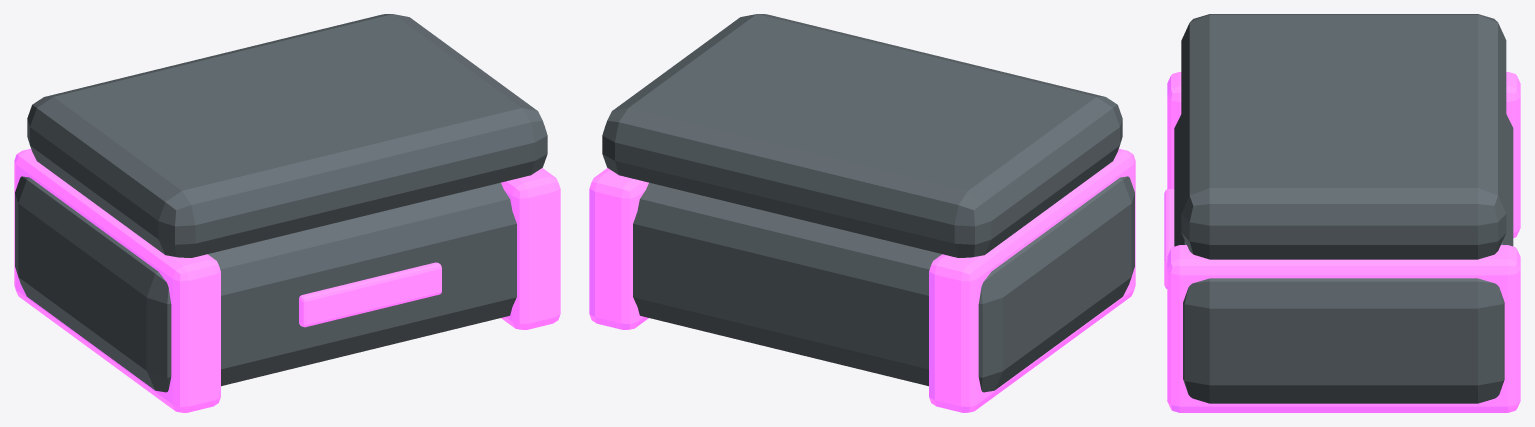
File: CargoCase_Strange.glb
The picture shows the model from 3 angles, left to right: view 1: azimuth 30°, elevation 25°; view 2: azimuth 150°, elevation 25°; view 3: azimuth 270°, elevation 25°; orthographic projection. The views are drawn at different scales.
Visible parts, largest first — view 1: CargoCase_Strange_Lid, CargoCase_Strange, CargoCase_Strange_Corner_L, CargoCase_Strange_Corner_R, CargoCase_Strange_Mark; view 2: CargoCase_Strange_Lid, CargoCase_Strange, CargoCase_Strange_Corner_L, CargoCase_Strange_Corner_R; view 3: CargoCase_Strange_Lid, CargoCase_Strange, CargoCase_Strange_Corner_R, CargoCase_Strange_Corner_L, CargoCase_Strange_Mark.
Part boxes in pixels (x1=…): CargoCase_Strange_Lid: x1=27, y1=14, x2=547, y2=257; CargoCase_Strange: x1=15, y1=176, x2=516, y2=392; CargoCase_Strange_Corner_L: x1=14, y1=148, x2=220, y2=412; CargoCase_Strange_Corner_R: x1=501, y1=168, x2=560, y2=329; CargoCase_Strange_Mark: x1=299, y1=262, x2=441, y2=327; CargoCase_Strange_Lid: x1=602, y1=14, x2=1122, y2=257; CargoCase_Strange: x1=633, y1=176, x2=1134, y2=392; CargoCase_Strange_Corner_L: x1=929, y1=148, x2=1135, y2=412; CargoCase_Strange_Corner_R: x1=589, y1=168, x2=648, y2=329; CargoCase_Strange_Lid: x1=1181, y1=14, x2=1506, y2=259; CargoCase_Strange: x1=1174, y1=114, x2=1513, y2=403; CargoCase_Strange_Corner_R: x1=1167, y1=245, x2=1520, y2=412; CargoCase_Strange_Corner_L: x1=1167, y1=72, x2=1520, y2=237; CargoCase_Strange_Mark: x1=1164, y1=189, x2=1174, y2=288.
Size of the model in its own units: 1.4 by 0.68 by 1.01.
